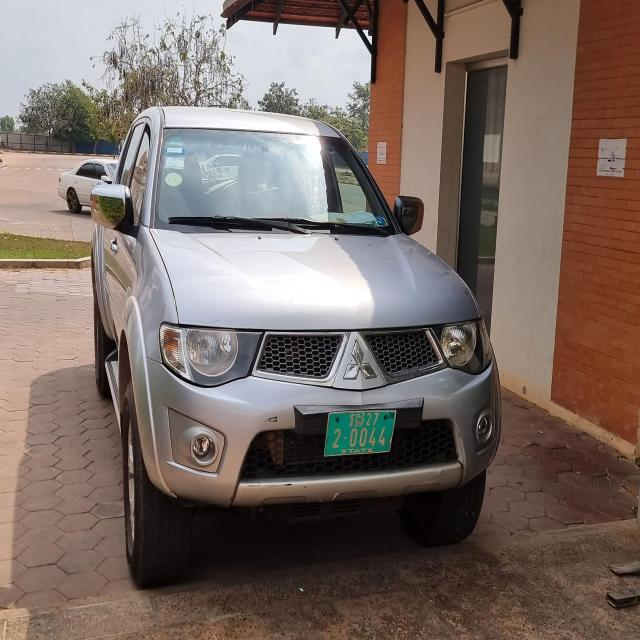State: (349, 412, 366, 428)
